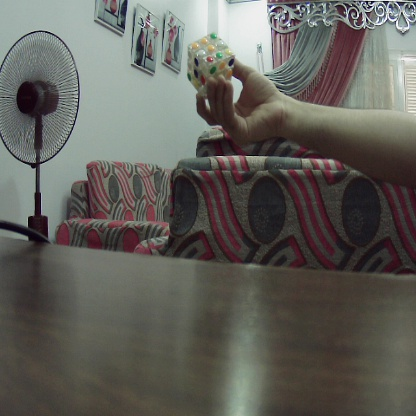Rubix Cube: (187, 33, 235, 96)
